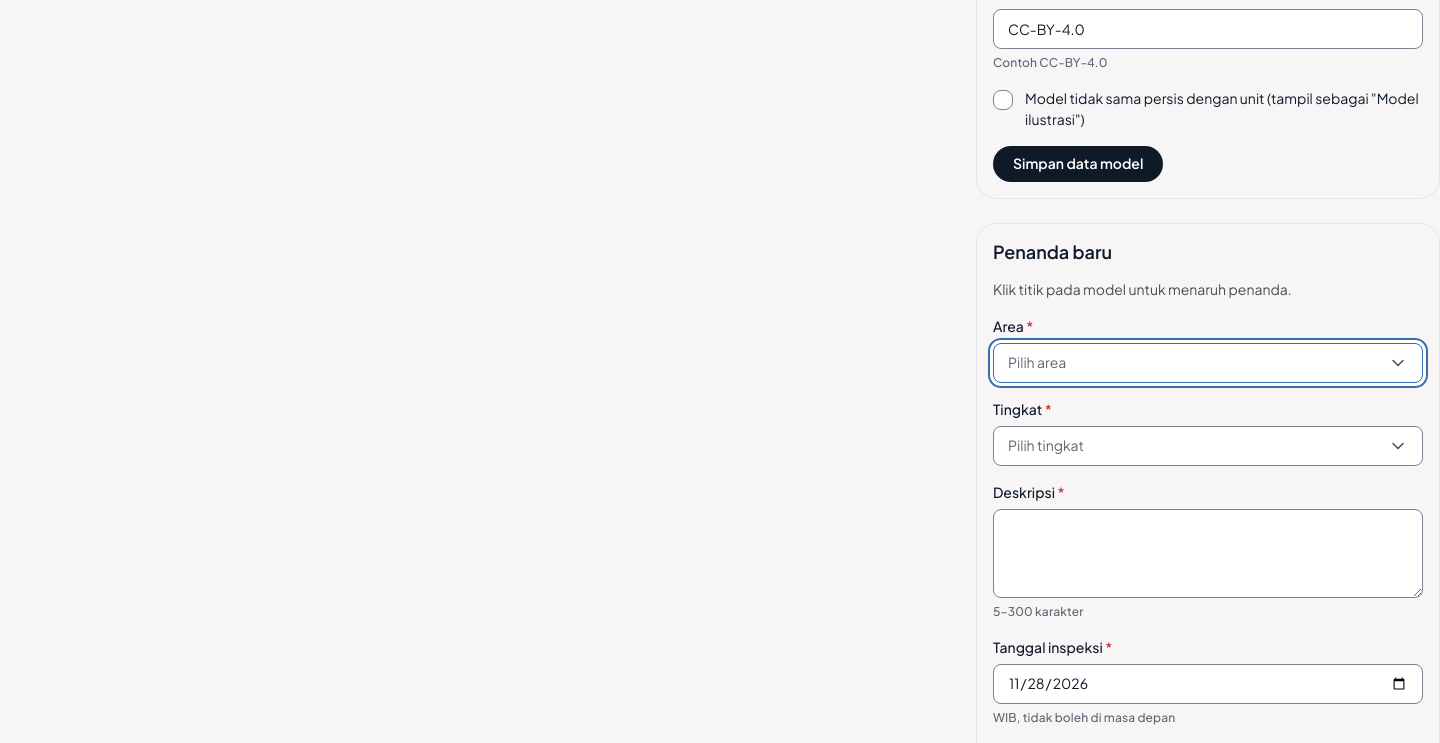
ModelTab with a model › asks for a point before saving
This screenshot has width=1440, height=743.
Earlier steps of the test are not shown.
(page scrolled)
Press Arrowdown
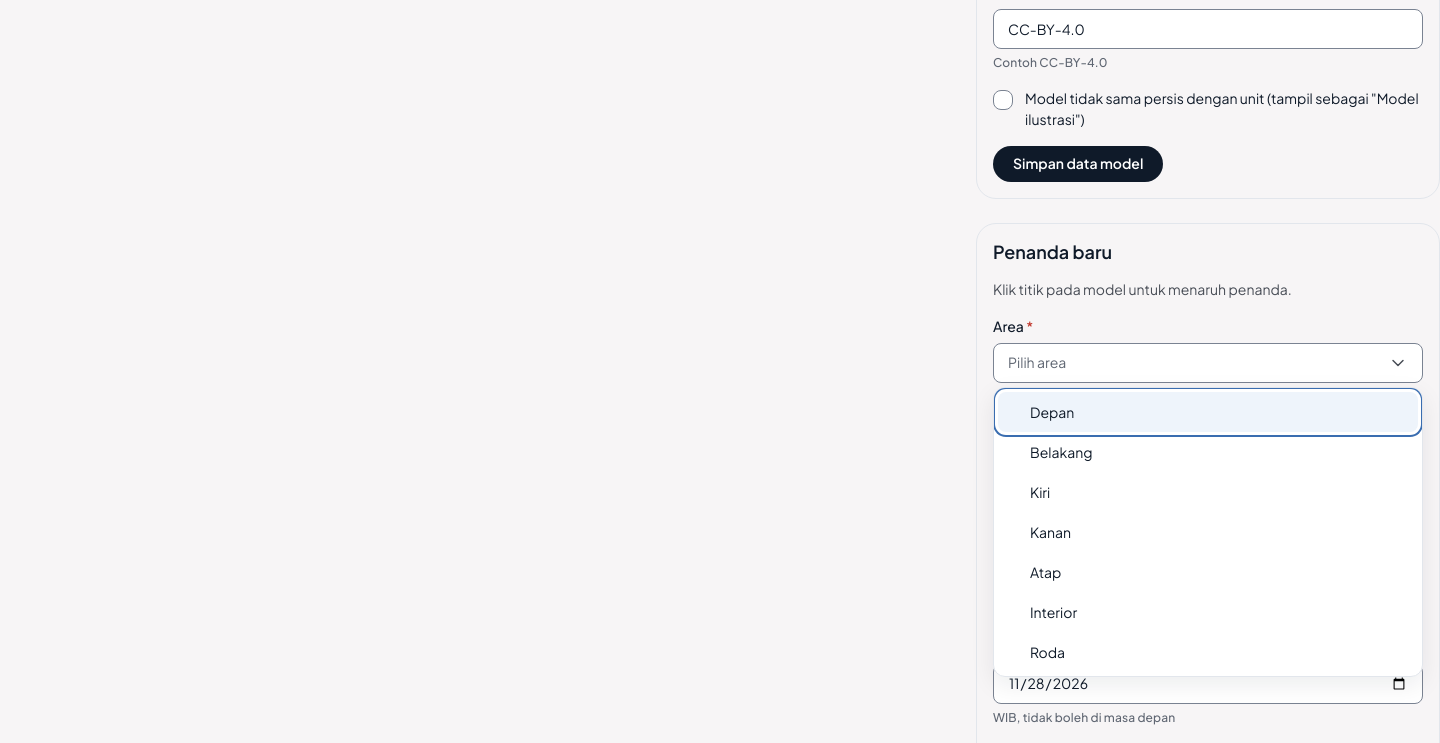
Click the option "Atap" at point(1046, 572), box x1=1030 y1=562 x2=1061 y2=580
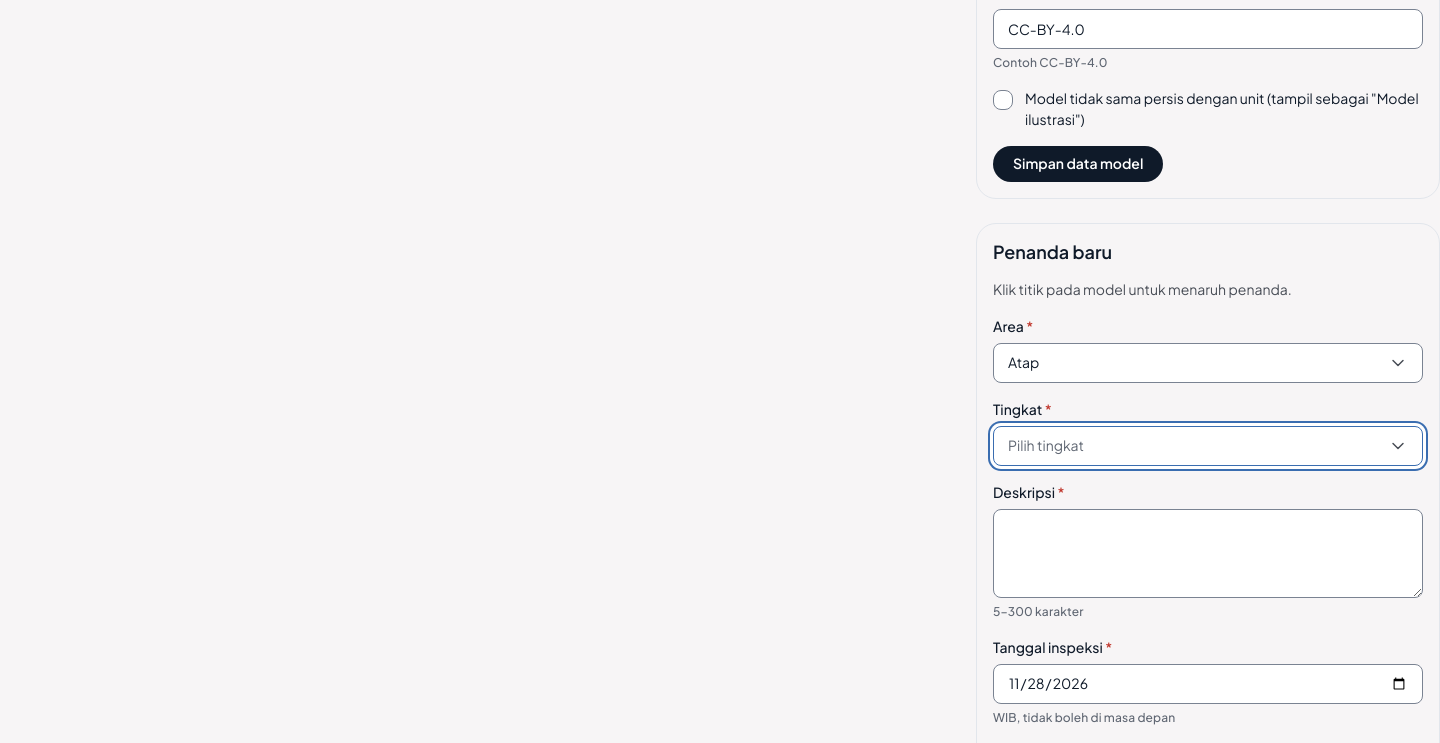
Press Arrowdown
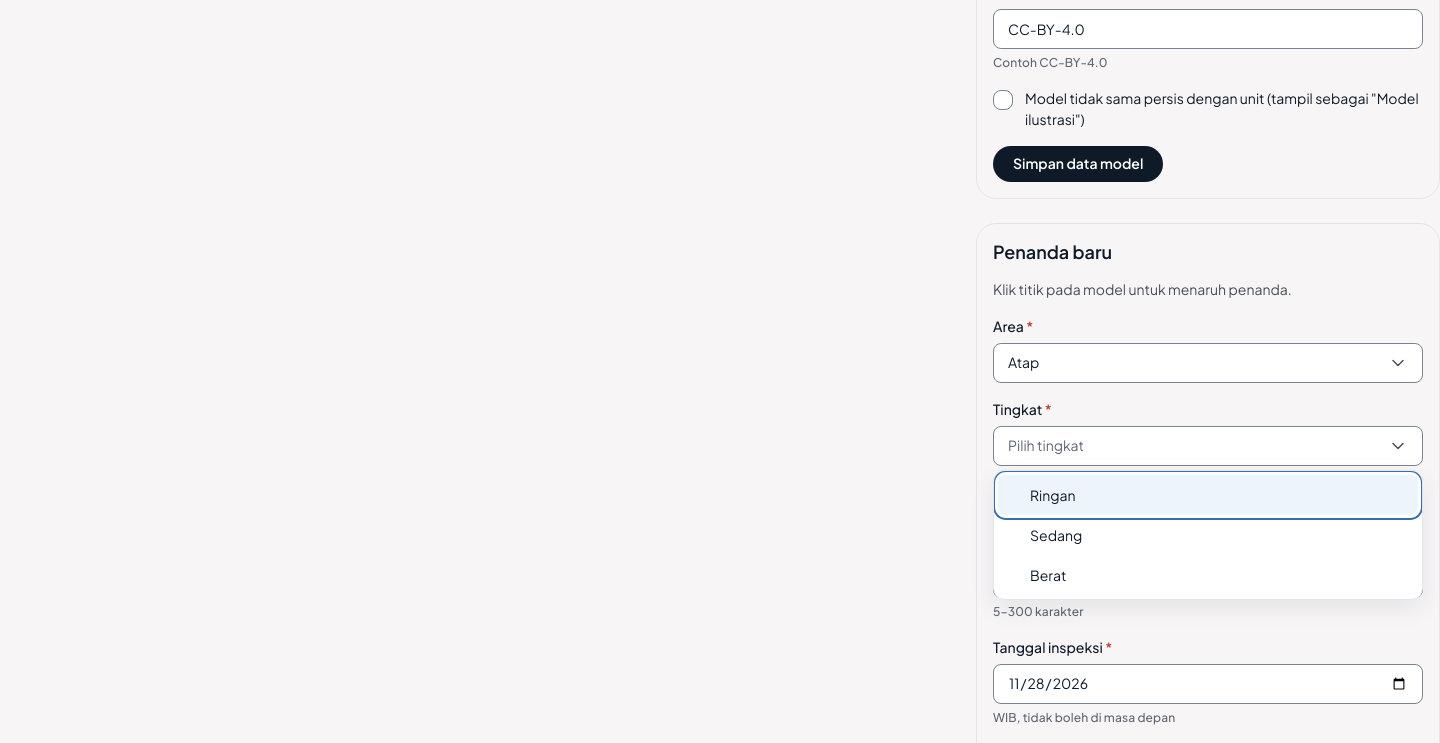
Click the option "Berat" at point(1048, 574), box x1=1030 y1=566 x2=1066 y2=584
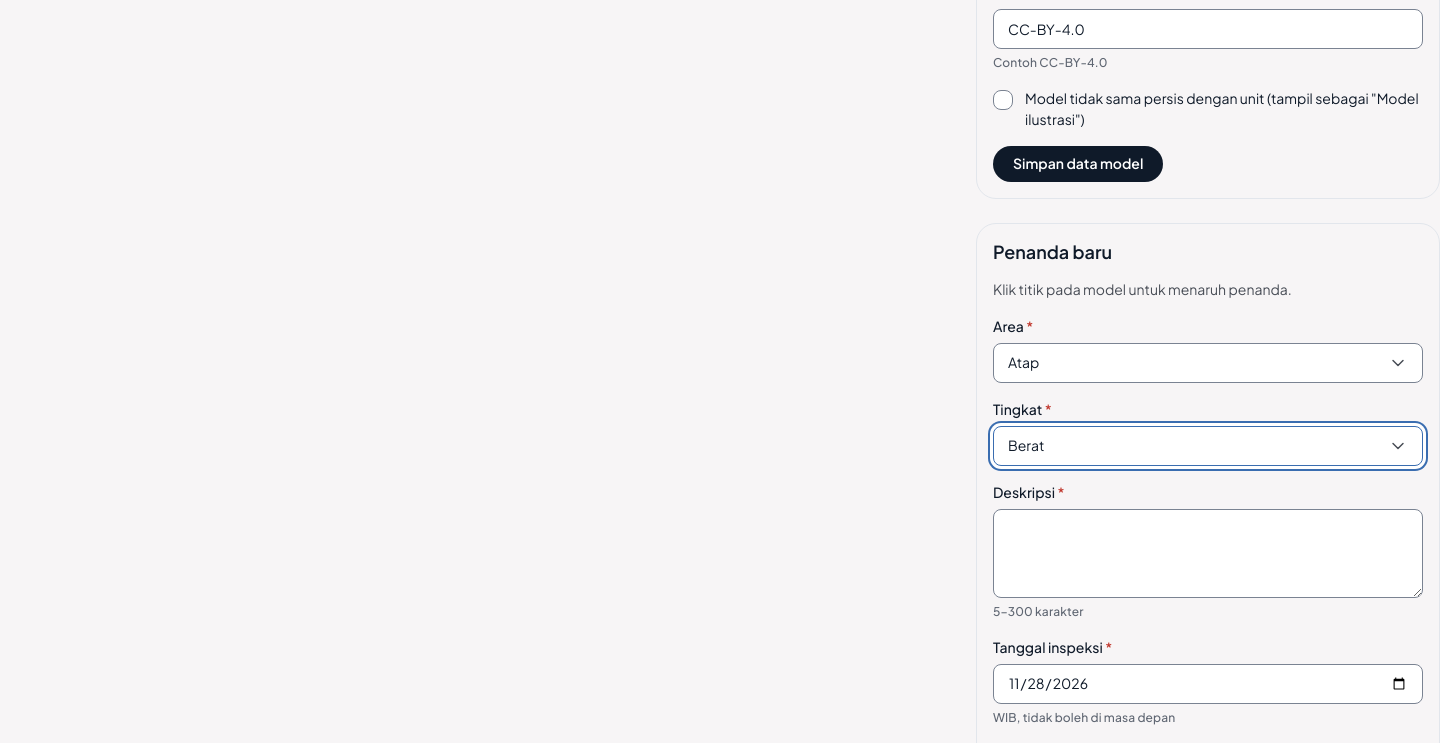
Type "Penyok di atap" into the text box labelled "Deskripsi *" at point(1208, 554), box x1=993 y1=509 x2=1423 y2=598
(page scrolled)
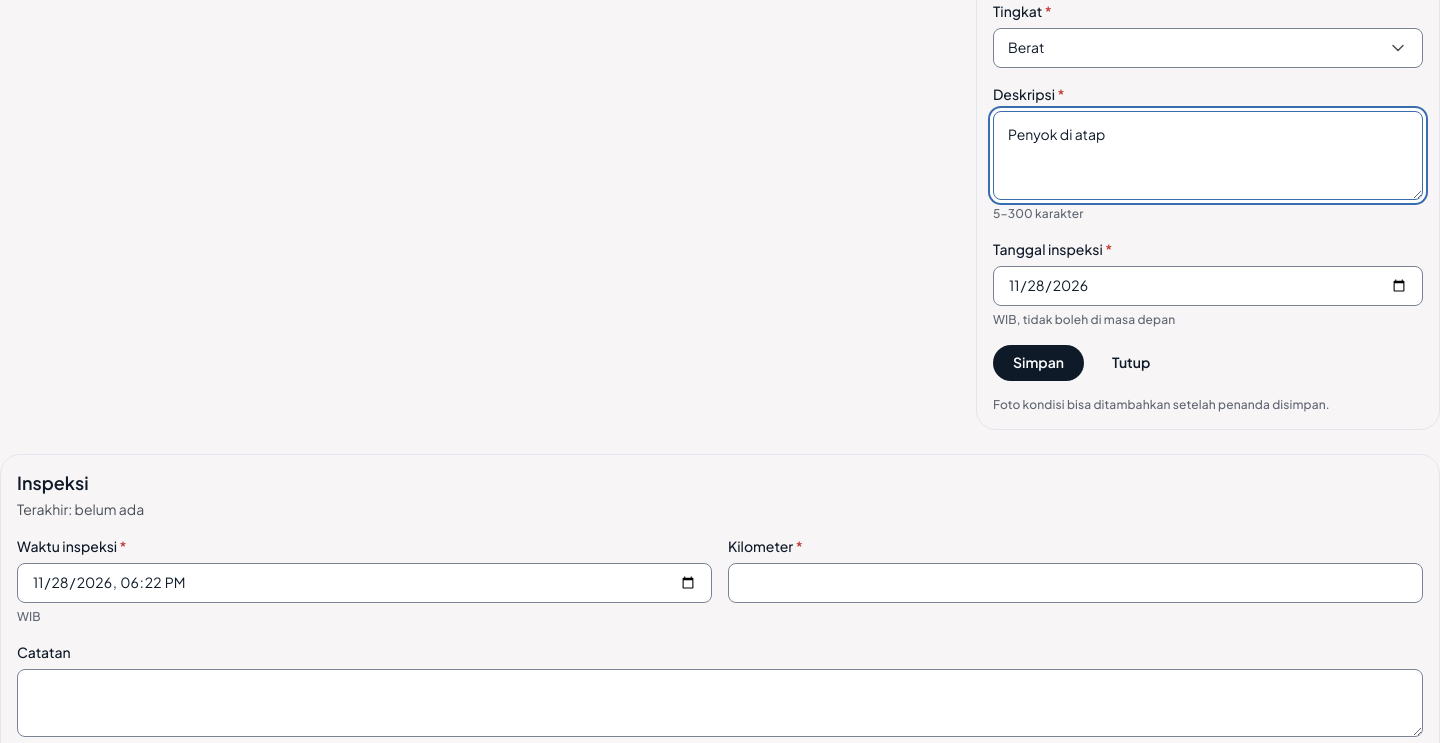
Click the button "Simpan" at point(1038, 363), box x1=993 y1=345 x2=1084 y2=381
(page scrolled)
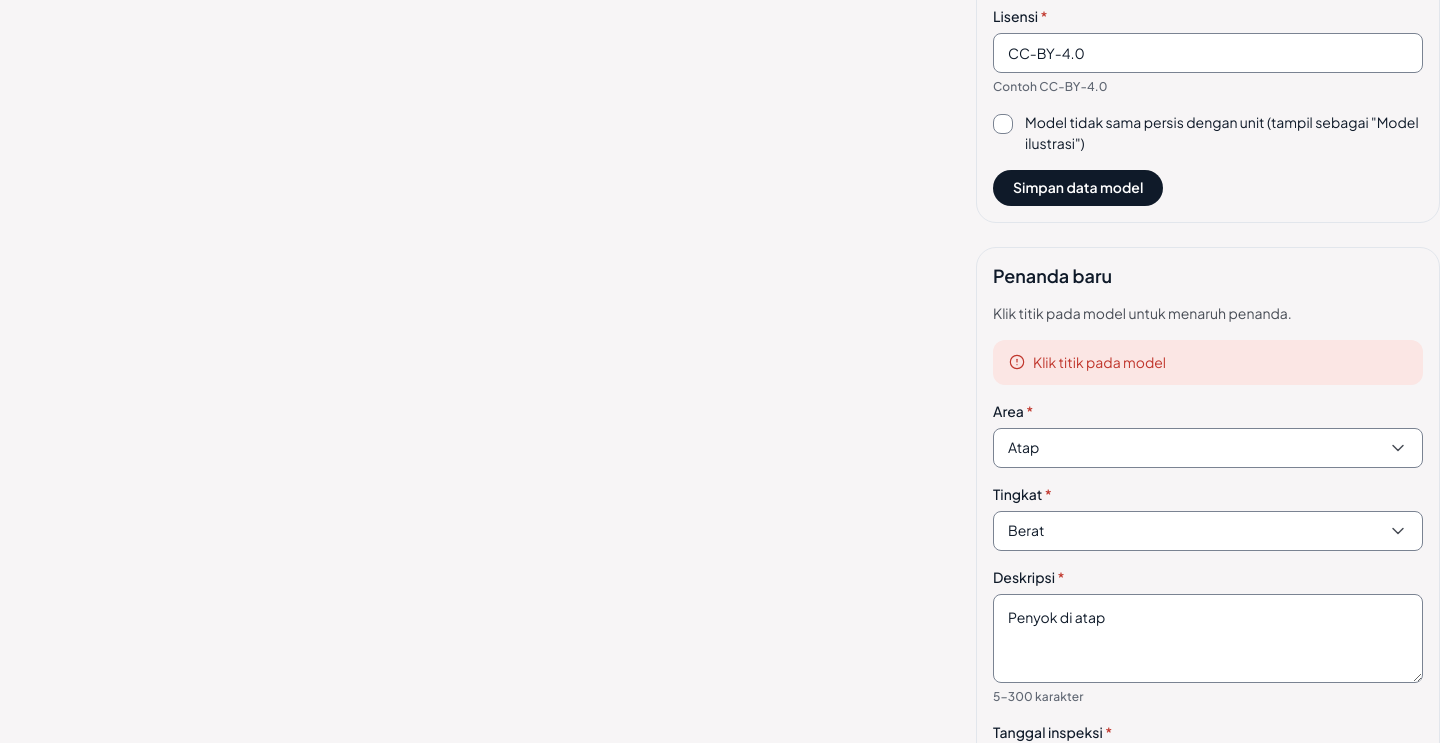
Result: the text "Klik titik pada model" is shown at x1=1033 y1=352 x2=1166 y2=373
